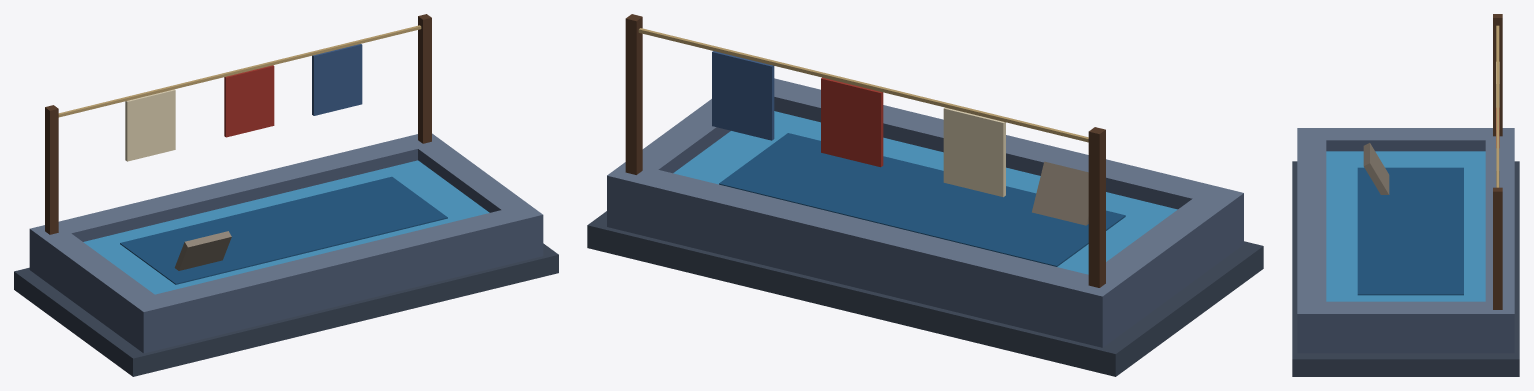
The model's file is bld_washing_pool_2x1.glb.
3 renders of one model, left to right at view 1: azimuth 30°, elevation 25°; view 2: azimuth 150°, elevation 25°; view 3: azimuth 270°, elevation 25°, orthographic. The views are drawn at different scales.
Visible parts, largest first — view 1: bld_washing_pool_2x12; view 2: bld_washing_pool_2x12; view 3: bld_washing_pool_2x12.
Boxes of the visible parts, x1,y1,x2,y2 form: bld_washing_pool_2x12: (14, 14, 558, 376); bld_washing_pool_2x12: (587, 14, 1263, 376); bld_washing_pool_2x12: (1292, 14, 1519, 376).
Size of the model in its own units: 1.94 by 0.8 by 0.94.
1 material, 1 textured.
